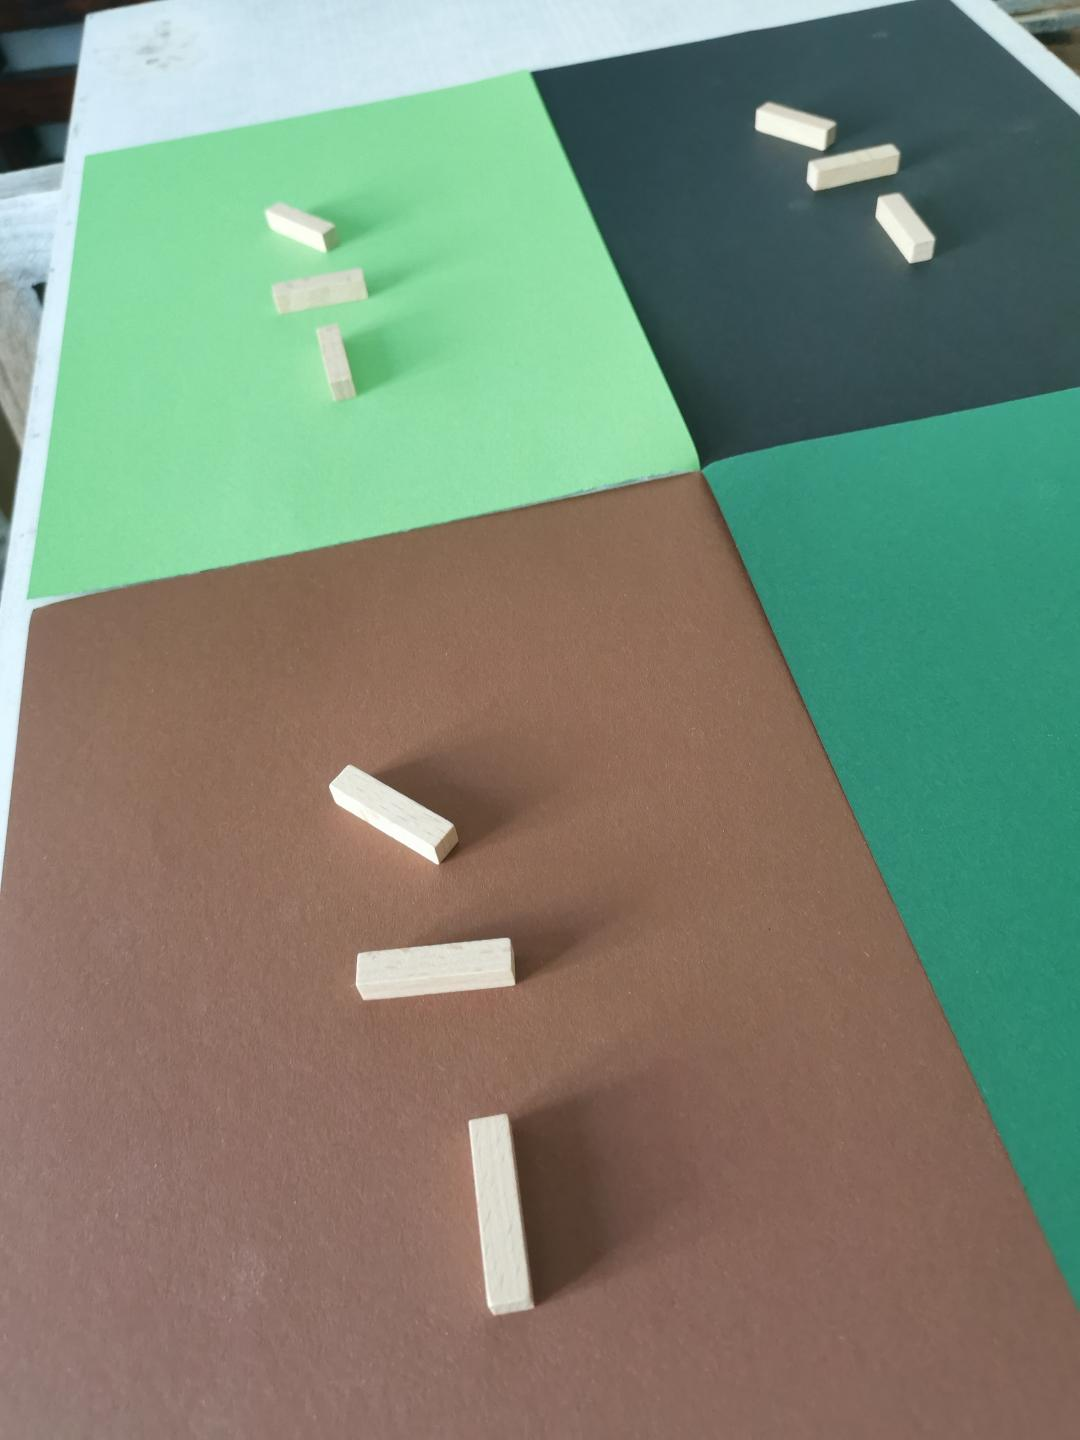jenga: (470, 1113, 534, 1313), (329, 765, 458, 864), (354, 939, 515, 1001), (272, 268, 369, 315), (808, 144, 900, 192), (875, 194, 937, 262), (753, 101, 835, 152), (264, 203, 338, 253), (318, 323, 357, 399)
